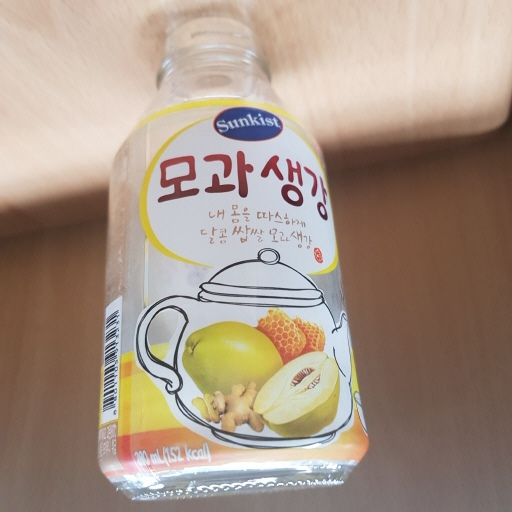Glass_4: (93, 15, 372, 503)
